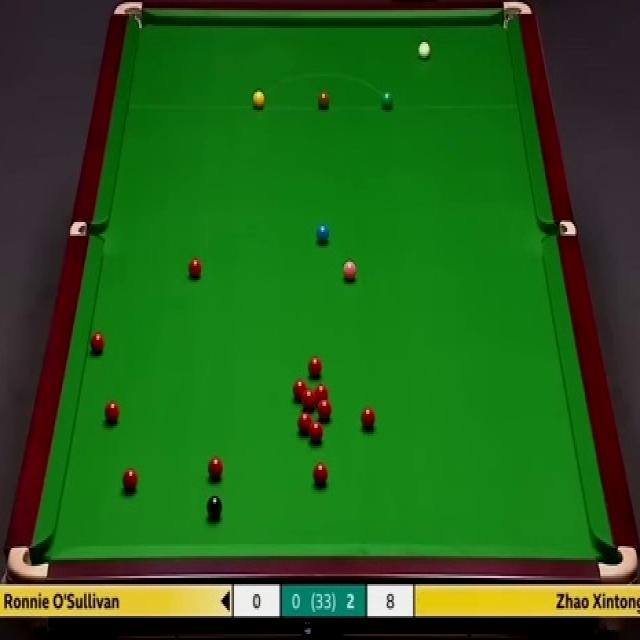black-ball: (207, 496, 223, 523)
blue-ball: (316, 222, 330, 245)
brown-ball: (318, 88, 330, 110)
green-ball: (380, 92, 393, 111)
pink-ball: (343, 260, 357, 281)
red-ball: (312, 462, 330, 489), (121, 467, 139, 494), (88, 332, 105, 358), (104, 398, 120, 425), (361, 406, 376, 433), (208, 456, 224, 480), (308, 423, 323, 448), (308, 356, 322, 380), (292, 378, 306, 402), (297, 413, 311, 436), (188, 257, 202, 278), (318, 400, 331, 421), (315, 385, 328, 405), (302, 389, 315, 408)
white-ball: (417, 37, 432, 63)
yellow-ball: (252, 90, 265, 111)
